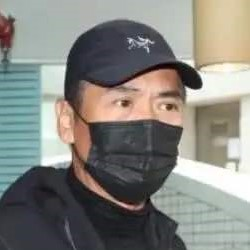mask: (75, 112, 184, 204)
